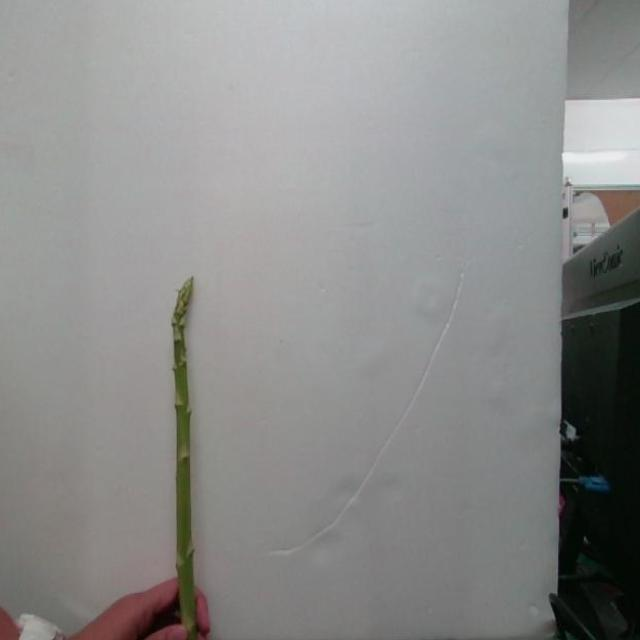aspargus: (172, 281, 199, 640)
